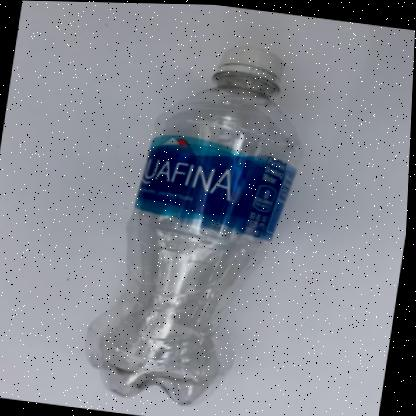Plastic: (87, 45, 301, 404)
